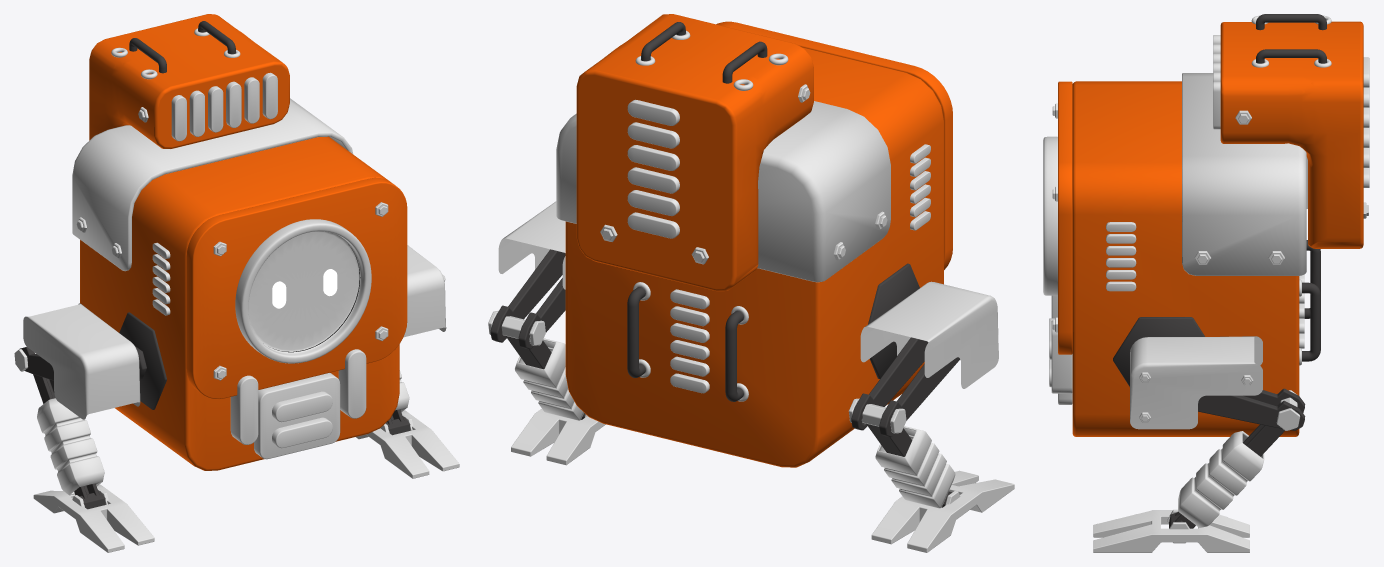
The model's file is cute_robot.glb.
3 renders of one model, left to right at view 1: azimuth 30°, elevation 25°; view 2: azimuth 150°, elevation 25°; view 3: azimuth 270°, elevation 25°, orthographic. The views are drawn at different scales.
Parts seen in each view (by area): view 1: The Box Bot_0; view 2: The Box Bot_0; view 3: The Box Bot_0.
Part boxes in pixels (bbox=[...]): The Box Bot_0: bbox=[14, 14, 459, 552]; The Box Bot_0: bbox=[488, 14, 1014, 552]; The Box Bot_0: bbox=[1043, 14, 1369, 552].
Size of the model in its own units: 3.4 by 3.6 by 2.49.
